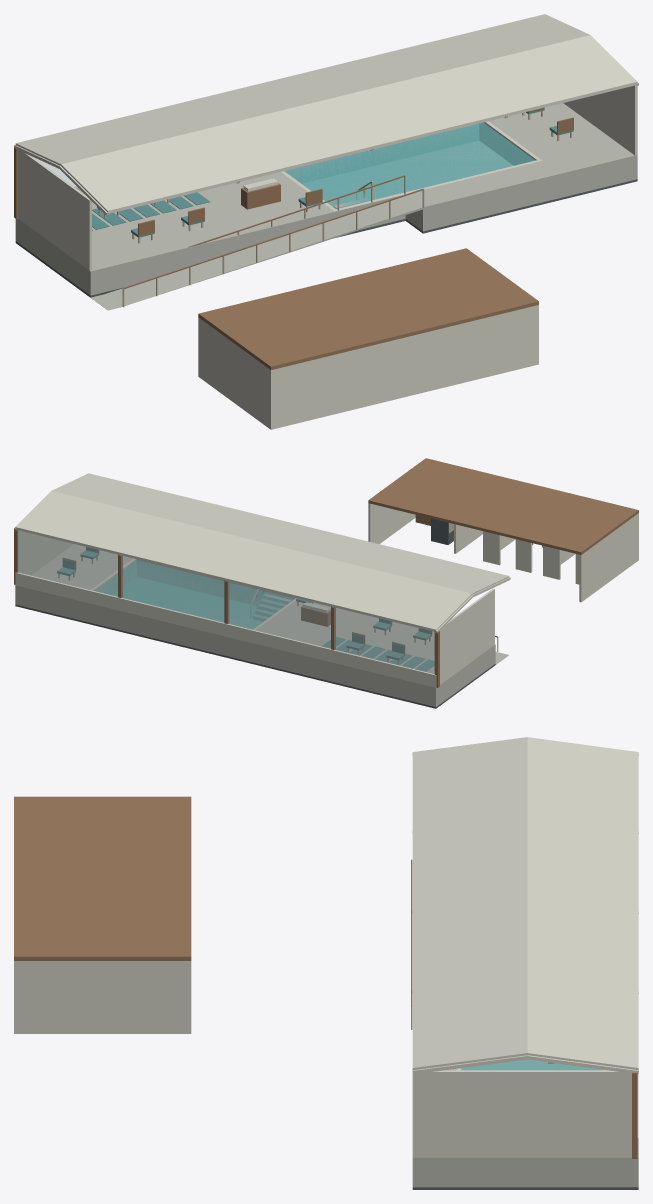
The model's file is VIP_TIDAL_r003.glb.
3 views of the same model, one above another, from view 1: azimuth 30°, elevation 25°; view 2: azimuth 150°, elevation 25°; view 3: azimuth 270°, elevation 25° (orthographic). The views are drawn at different scales.
Parts seen in each view (by area): view 1: G2VIP_TIDAL_RoofPanel1, G2VIP_TIDAL_AftRoof, G2VIP_TIDAL_RoofPanel0, G2VIP_TIDAL_AftBack, G2VIP_TIDAL_TerraceWest, G2VIP_TIDAL_Water_Illustrative, G2VIP_TIDAL_TerraceEast, G2VIP_TIDAL_TerraceAftLanding, G2VIP_TIDAL_ArrivalRamp, G2VIP_TIDAL_VesselFloor, G2VIP_TIDAL_InnerWall, G2VIP_TIDAL_AftWest (+7 smaller); view 2: G2VIP_TIDAL_RoofPanel0, G2VIP_TIDAL_ForeClerestory, G2VIP_TIDAL_AftRoof, G2VIP_TIDAL_RoofPanel1, G2VIP_TIDAL_TerraceFore, G2VIP_TIDAL_Water_Illustrative, G2VIP_TIDAL_ForePlinth, G2VIP_TIDAL_TerraceWest, G2VIP_TIDAL_InnerWall, G2VIP_TIDAL_AftWest, G2VIP_TIDAL_TerraceEast, G2VIP_TIDAL_TankAft (+9 smaller); view 3: G2VIP_TIDAL_RoofPanel1, G2VIP_TIDAL_RoofPanel0, G2VIP_TIDAL_AftRoof, G2VIP_TIDAL_OuterWall, G2VIP_TIDAL_AftEast, G2VIP_TIDAL_TerraceEast, G2VIP_TIDAL_Water_Illustrative, G2VIP_TIDAL_TerraceFore, G2VIP_TIDAL_VesselFloor.
Part boxes in pixels (left/top/right/bottom): G2VIP_TIDAL_RoofPanel1: left=61, top=35, right=637, bottom=213; G2VIP_TIDAL_AftRoof: left=198, top=248, right=538, bottom=369; G2VIP_TIDAL_RoofPanel0: left=15, top=14, right=589, bottom=165; G2VIP_TIDAL_AftBack: left=269, top=305, right=538, bottom=429; G2VIP_TIDAL_TerraceWest: left=28, top=172, right=334, bottom=294; G2VIP_TIDAL_Water_Illustrative: left=284, top=122, right=534, bottom=208; G2VIP_TIDAL_TerraceEast: left=489, top=103, right=637, bottom=197; G2VIP_TIDAL_TerraceAftLanding: left=405, top=161, right=560, bottom=231; G2VIP_TIDAL_ArrivalRamp: left=106, top=195, right=422, bottom=306; G2VIP_TIDAL_VesselFloor: left=302, top=141, right=512, bottom=206; G2VIP_TIDAL_InnerWall: left=18, top=150, right=91, bottom=270; G2VIP_TIDAL_AftWest: left=198, top=317, right=269, bottom=428; G2VIP_TIDAL_RoofPanel0: left=15, top=491, right=471, bottom=631; G2VIP_TIDAL_ForeClerestory: left=17, top=530, right=434, bottom=673; G2VIP_TIDAL_AftRoof: left=368, top=458, right=638, bottom=554; G2VIP_TIDAL_RoofPanel1: left=51, top=473, right=509, bottom=594; G2VIP_TIDAL_TerraceFore: left=15, top=585, right=445, bottom=706; G2VIP_TIDAL_Water_Illustrative: left=95, top=560, right=294, bottom=629; G2VIP_TIDAL_ForePlinth: left=15, top=572, right=436, bottom=687; G2VIP_TIDAL_TerraceWest: left=256, top=601, right=495, bottom=699; G2VIP_TIDAL_InnerWall: left=440, top=589, right=494, bottom=684; G2VIP_TIDAL_AftWest: left=579, top=514, right=637, bottom=602; G2VIP_TIDAL_TerraceEast: left=31, top=544, right=132, bottom=589; G2VIP_TIDAL_TankAft: left=137, top=559, right=295, bottom=604; G2VIP_TIDAL_RoofPanel1: left=412, top=737, right=527, bottom=1069; G2VIP_TIDAL_RoofPanel0: left=527, top=737, right=638, bottom=1069; G2VIP_TIDAL_AftRoof: left=14, top=796, right=191, bottom=960; G2VIP_TIDAL_OuterWall: left=412, top=1070, right=631, bottom=1157; G2VIP_TIDAL_AftEast: left=17, top=961, right=191, bottom=1033; G2VIP_TIDAL_TerraceEast: left=412, top=1157, right=607, bottom=1187; G2VIP_TIDAL_Water_Illustrative: left=461, top=1059, right=602, bottom=1070; G2VIP_TIDAL_TerraceFore: left=608, top=1157, right=638, bottom=1187; G2VIP_TIDAL_VesselFloor: left=461, top=1059, right=601, bottom=1069.
Bounding box in the file's own units: 31.84 × 6.38 × 26.41.
